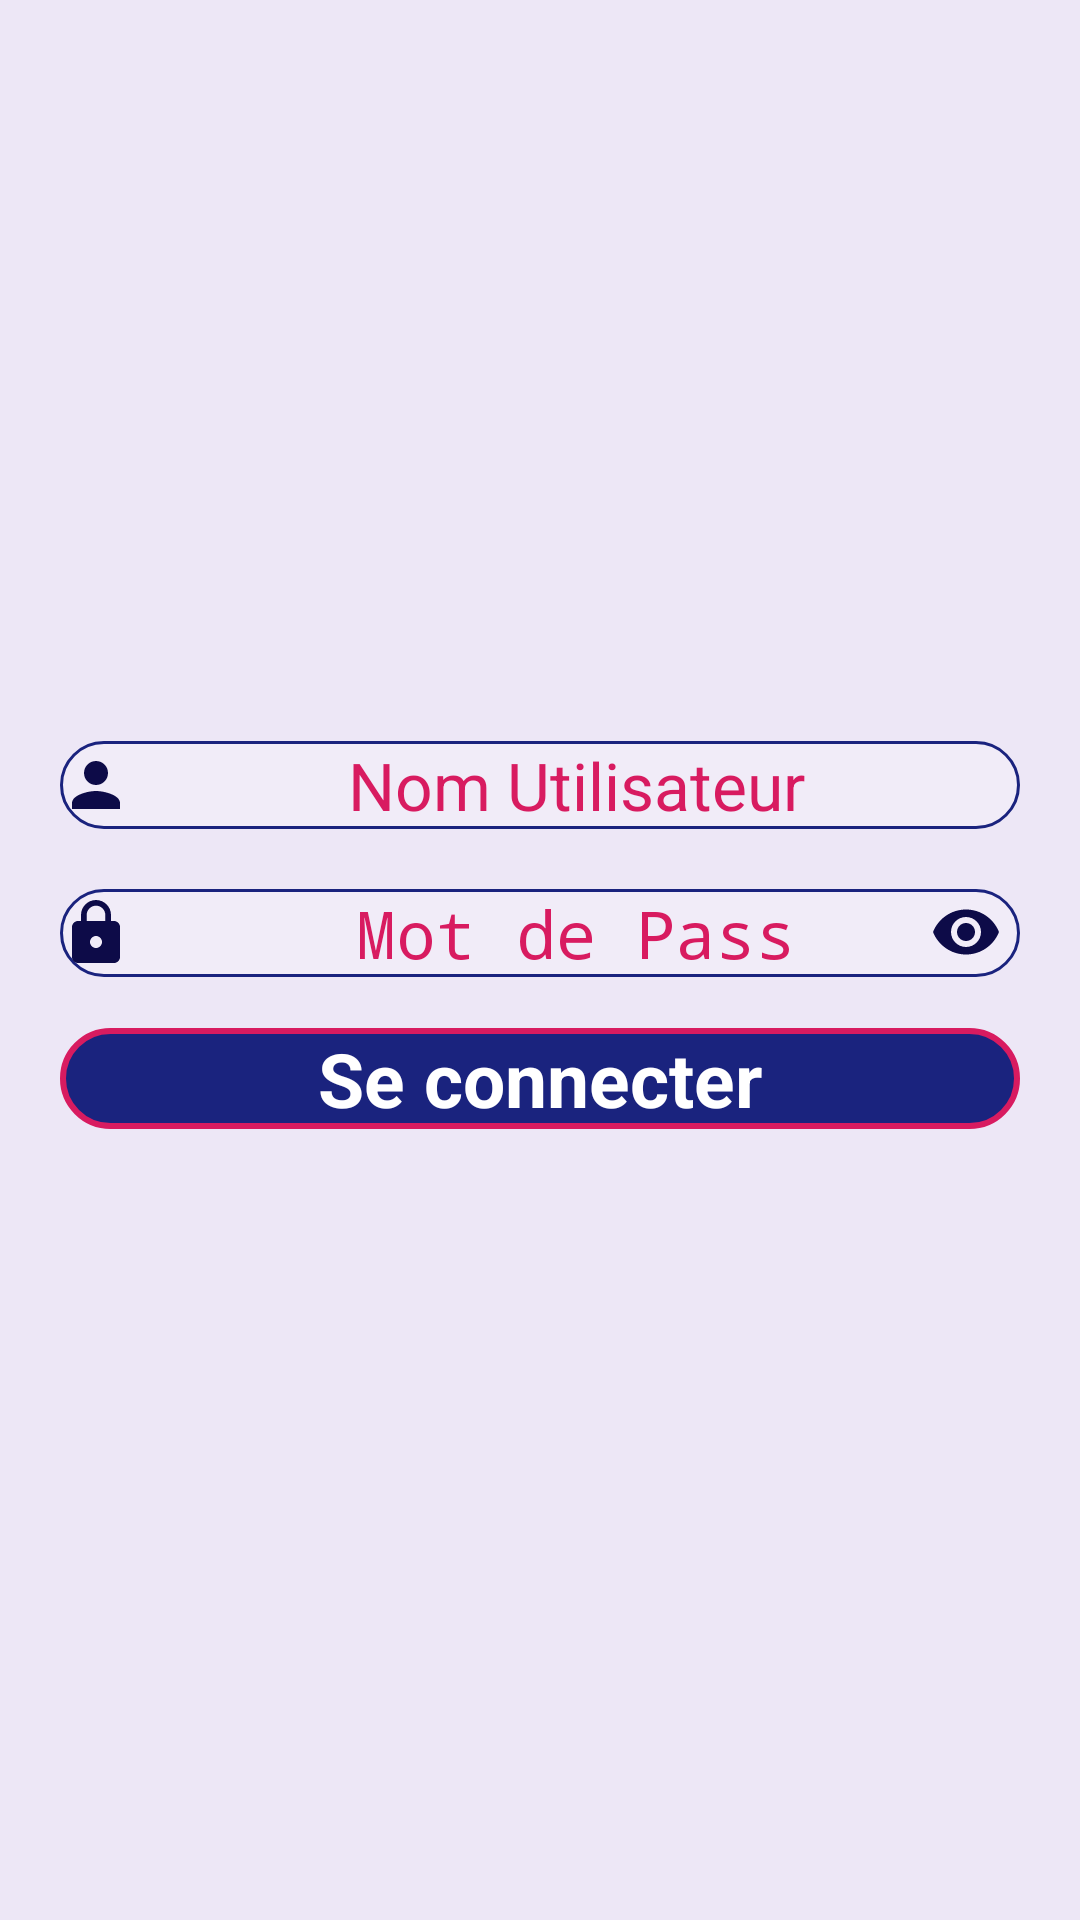

Icon bounding boxes for this 1080 × 1920 phone screenshot, format {"left": x1, "top": y1, "right": x2, "bottom": y2}:
visibility: {"left": 933, "top": 909, "right": 999, "bottom": 955}
